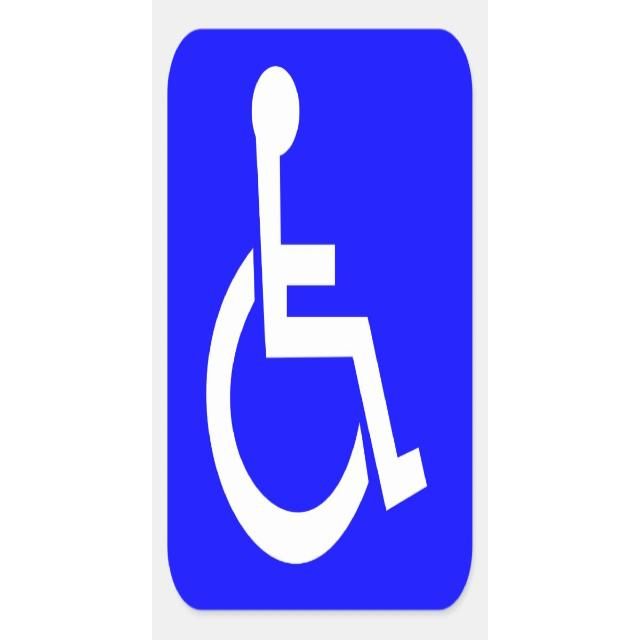symbol_of_access: (188, 44, 436, 576)
